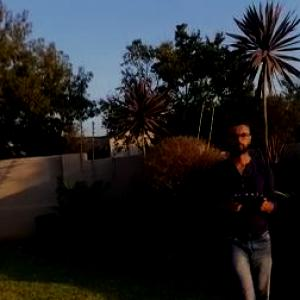follow: (204, 115, 284, 299)
